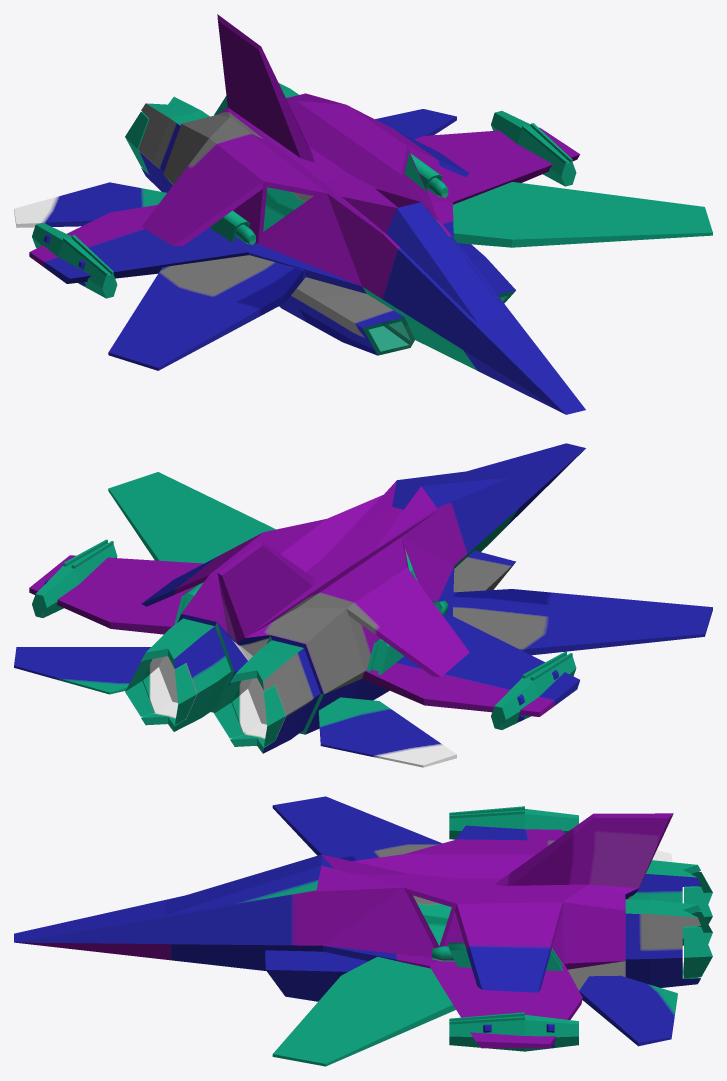
File: PlayerShip01_3.fbx
3 views of the same model, one above another, from view 1: azimuth 30°, elevation 25°; view 2: azimuth 150°, elevation 25°; view 3: azimuth 270°, elevation 25° (orthographic). The views are drawn at different scales.
Parts seen in each view (by area): view 1: Fighter01; view 2: Fighter01; view 3: Fighter01.
Part boxes in pixels (left/top/right/bottom): Fighter01: left=14, top=14, right=712, bottom=414; Fighter01: left=14, top=443, right=712, bottom=767; Fighter01: left=14, top=796, right=712, bottom=1066.
Size of the model in its own units: 471 by 138 by 520.
